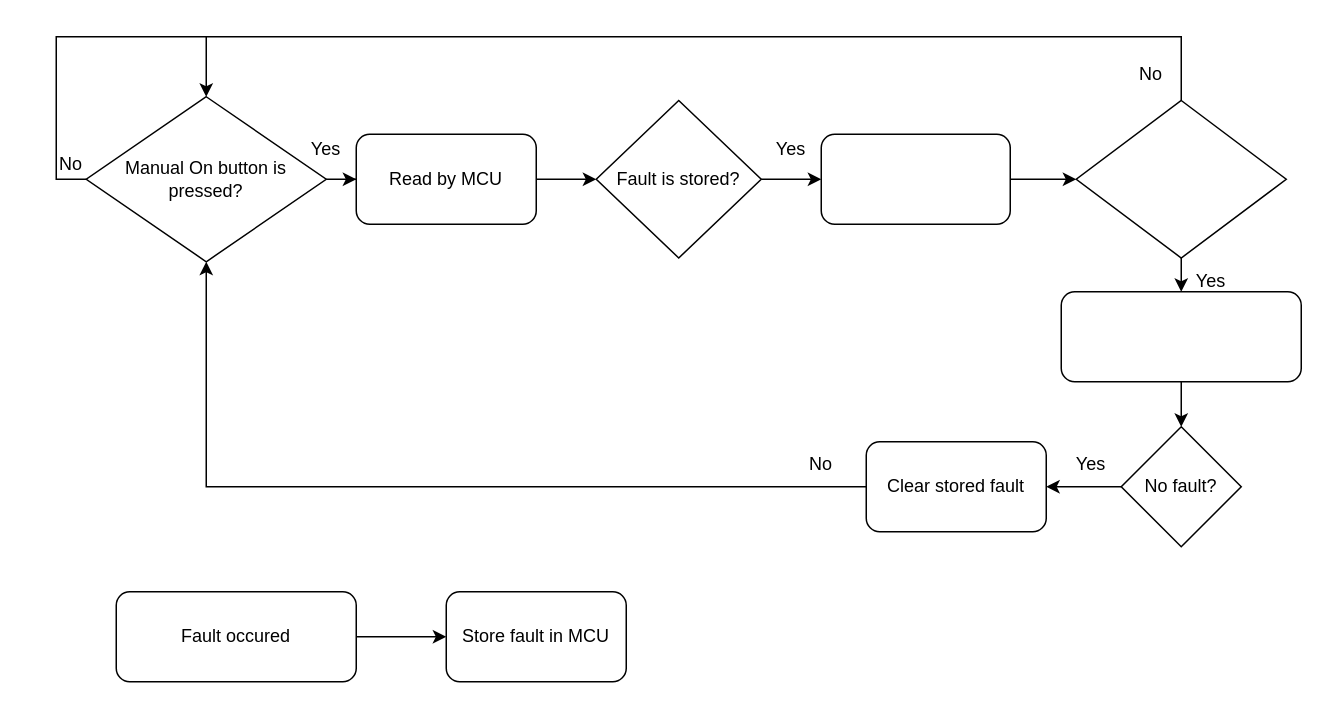
This 1328x708 diagram has some shape labels left out. Here are the shapes that lost their labels. From the top down, the centre of each, then its label:
[915,178]: Display warning on webpage
[1180,178]: User confirmation?
[1180,336]: Outputs positive pulse, wait for 1000ms
